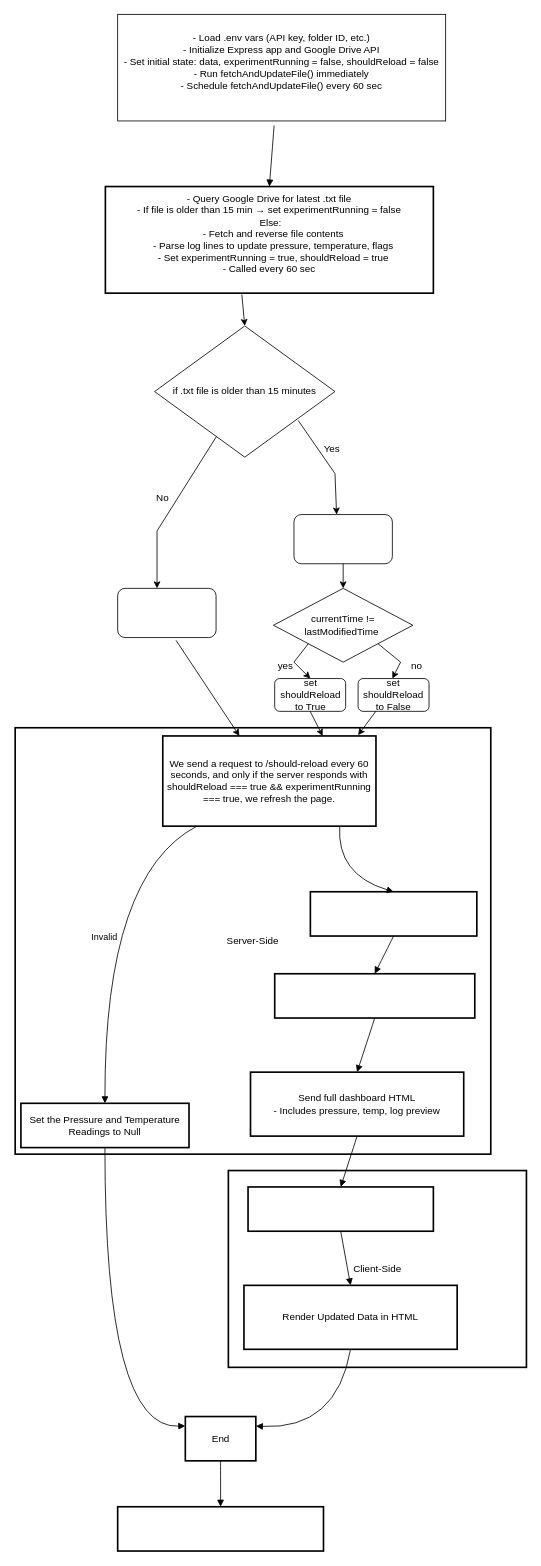
This 541x1566 diagram has some shape labels left out. The shapes that lost their labels are listed below. From the top down, each one's centre as x and y in pixels, then its label:
At pixel 342 539: "set experimentRunnig to True".
At pixel 166 613: "set shouldReload and Experiment Running to False".
At pixel 393 913: "GET /should-reload - Returns: { shouldReload, experimentRunning }".
At pixel 374 995: "GET /data - Returns: { pressure, temp, safetyFlags }".
At pixel 340 1209: "Clients Receive Update".
At pixel 220 1528: "Monitor Continues Running".
